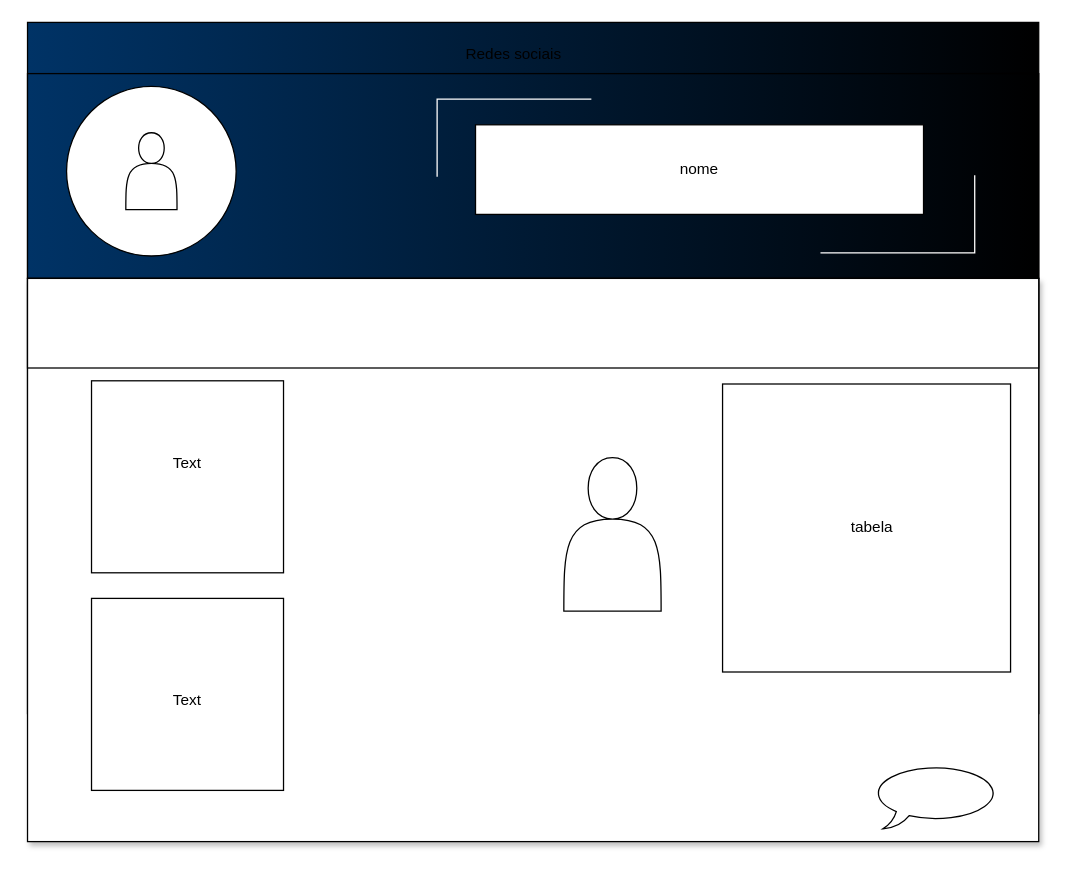
Image size: 1069x873. Some labels were removed from this diagram. Each missing label, with the centre of its shape:
mensagem: the point at 935,796
Objetivo: the point at 532,322
